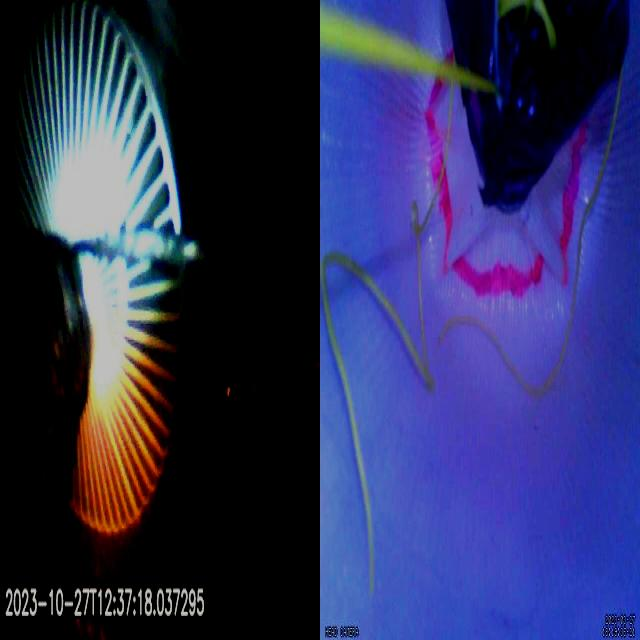red-circle: (427, 55, 587, 297)
